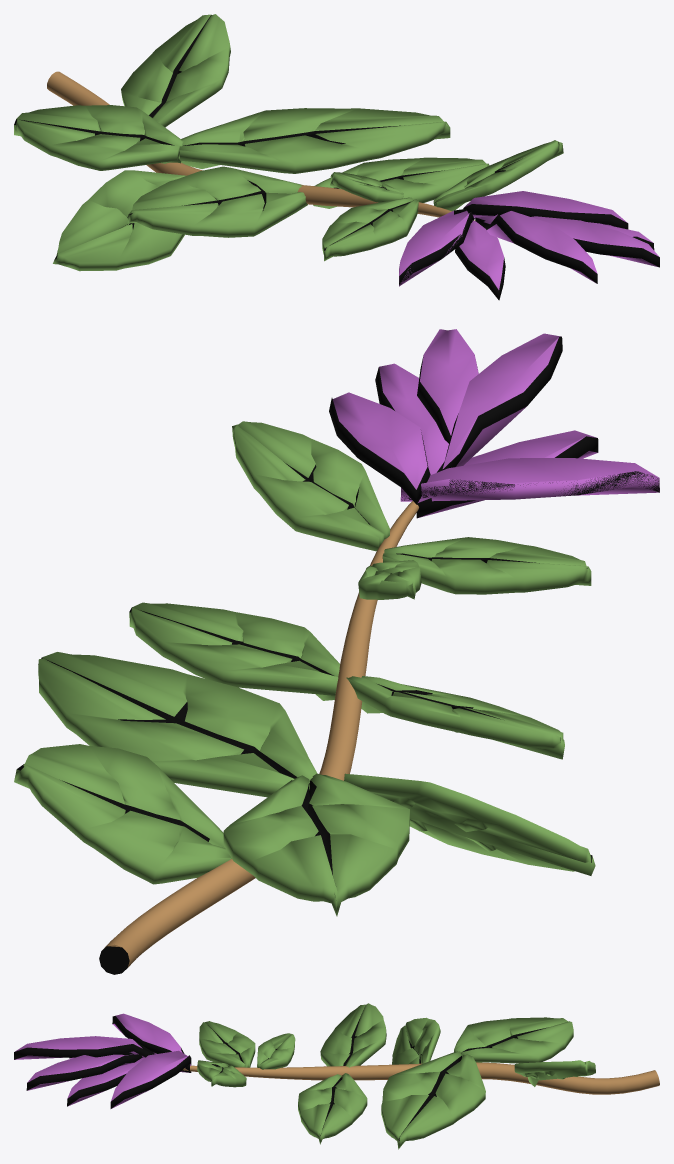
The model's file is RM_Herbs.fbx.
The picture shows the model from 3 angles, top to bottom: view 1: azimuth 30°, elevation 25°; view 2: azimuth 150°, elevation 25°; view 3: azimuth 270°, elevation 25°; orthographic projection. The views are drawn at different scales.
Visible parts, largest first — view 1: Herbs; view 2: Herbs; view 3: Herbs.
Part boxes in pixels (x1,y1,x2,y2): Herbs: [14, 14, 659, 300]; Herbs: [14, 329, 659, 974]; Herbs: [14, 1003, 659, 1149].
Size of the model in its own units: 0.8635 by 1.64 by 0.2988.
